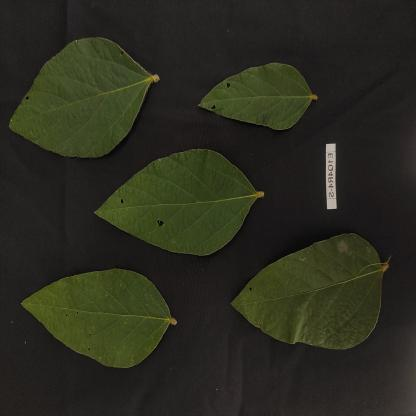label: (316, 136, 342, 230)
leaflets: (5, 17, 160, 163), (214, 239, 406, 351), (89, 138, 255, 254), (21, 265, 183, 378), (186, 47, 322, 126)
